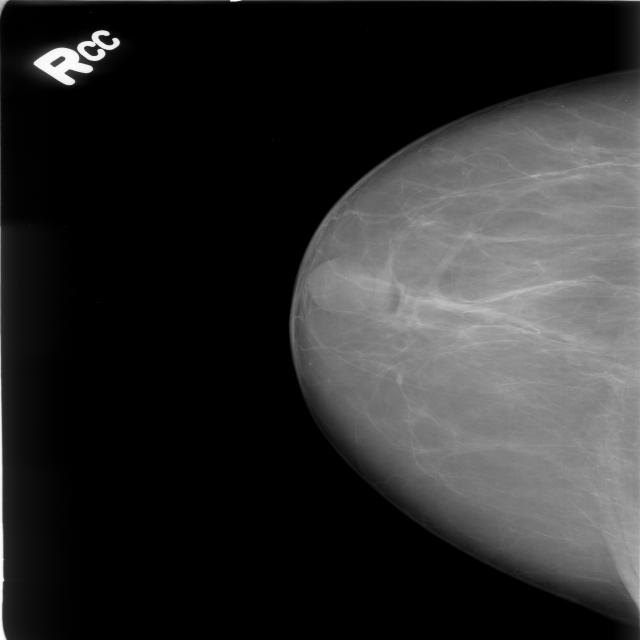normal: (287, 25, 640, 629)
